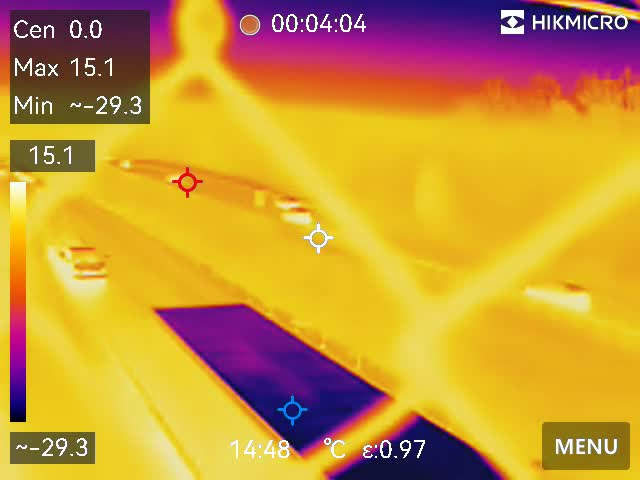heavyTruck: (146, 286, 508, 480)
